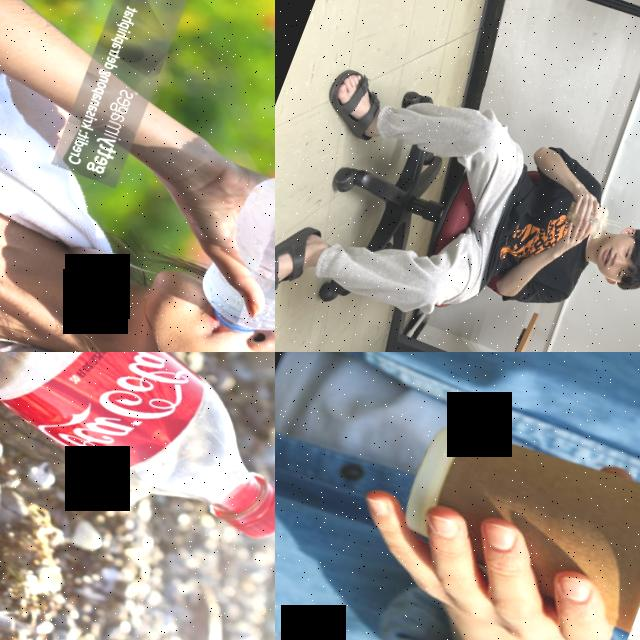bottle: (0, 352, 275, 553), (187, 153, 275, 352)
cup: (376, 393, 640, 640), (560, 194, 612, 242)
